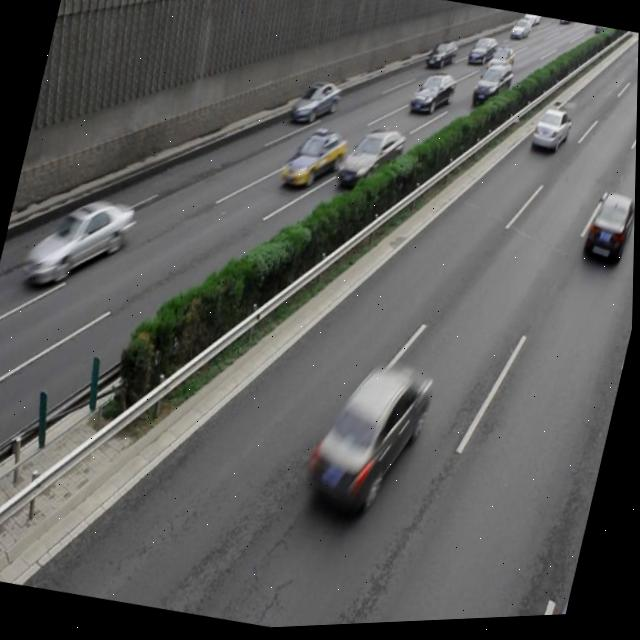car: (302, 348, 440, 531), (24, 183, 140, 303), (333, 121, 407, 199), (278, 120, 351, 197), (579, 192, 636, 274), (289, 74, 344, 131), (407, 69, 459, 123), (469, 61, 515, 115), (529, 107, 574, 160)
